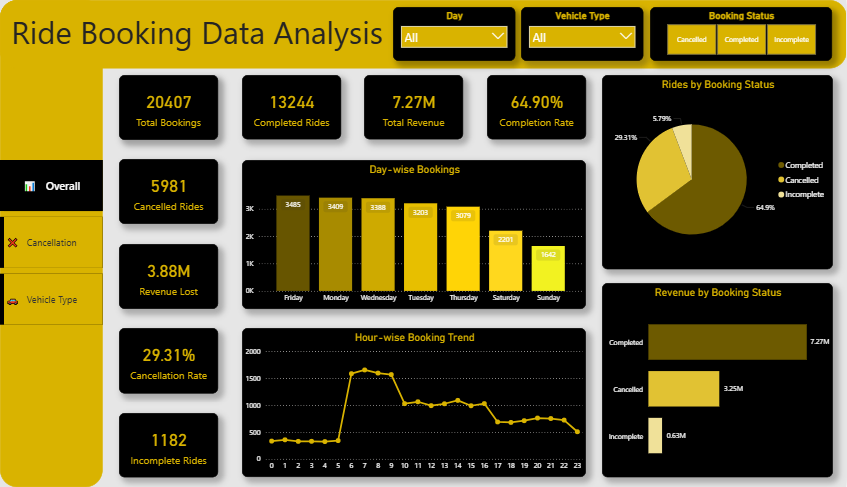

This screenshot's page, from the dashboard's own definition file:
{"tool":"powerbi","page":{"name":"📊   Overall","canvas":[1460,840],"ordinal":0},"visuals":[{"type":"shape","title":"Menu BG","box":[0,0,176.7,840],"z":0},{"type":"card","fields":{"Values":["rides.Total Bookings"]},"box":[205,130,171.1,112.1],"z":0,"group":"g1"},{"type":"group","id":"g1","title":"Group 1","box":[205,130,1230,695],"z":1000},{"type":"card","fields":{"Values":["rides.Completed Rides"]},"box":[416.6,130.4,171.1,111.2],"z":1000,"group":"g1"},{"type":"pageNavigator","title":"Menu Buttons","box":[0,275.4,177.2,284.2],"z":2000},{"type":"card","fields":{"Values":["rides.Cancelled Rides"]},"box":[205,275.5,171.1,112.1],"z":2000,"group":"g1"},{"type":"card","fields":{"Values":["rides.Total Revenue"]},"box":[627.7,130.4,171.1,111.2],"z":3000,"group":"g1"},{"type":"pageNavigator","title":"Menu Buttons","box":[7,275.4,170.2,284.2],"z":3000},{"type":"shape","title":"Menu BG","box":[0,0,1460,118.3],"z":4000},{"type":"card","fields":{"Values":["rides.Revenue Lost"]},"box":[205,420.9,171.1,112.1],"z":4000,"group":"g1"},{"type":"textbox","box":[0,12.3,677.2,93],"z":5000},{"type":"card","fields":{"Values":["rides.Cancellation Rate"]},"box":[205.5,566.4,171.1,112.8],"z":5000,"group":"g1"},{"type":"slicer","title":"Day","fields":{"Values":["rides.Day"]},"box":[677.2,12.3,210.5,93],"z":6000},{"type":"card","fields":{"Values":["rides.Incomplete Rides"]},"box":[205.5,712.6,171.1,111.2],"z":6000,"group":"g1"},{"type":"slicer","title":"Booking Status","fields":{"Values":["rides.Booking_Status"]},"box":[1121.1,12.3,314,93],"z":6002},{"type":"slicer","title":"Vehicle Type","fields":{"Values":["rides.Vehicle_Type"]},"box":[899.1,12.3,210.5,93],"z":6003},{"type":"lineChart","title":"Hour-wise Booking Trend","fields":{"Y":["rides.Total Bookings"],"Category":["rides.Hour"]},"box":[416.6,567,593.4,256.7],"z":7000,"group":"g1"},{"type":"columnChart","title":"Day-wise Bookings","fields":{"Category":["rides.Day"],"Y":["rides.Total Bookings"]},"box":[416.6,276,593.4,256.7],"z":8000,"group":"g1"},{"type":"pieChart","title":"Rides by Booking Status","fields":{"Category":["rides.Booking_Status"],"Y":["rides.Total Bookings"]},"box":[1037.2,130.4,398.3,335.2],"z":9000,"group":"g1"},{"type":"barChart","title":"Revenue by Booking Status","fields":{"Y":["Sum(rides.Booking_Value)"],"Category":["rides.Booking_Status"]},"box":[1037.2,488.5,398.3,335.2],"z":10000,"group":"g1"},{"type":"card","fields":{"Values":["rides.Completion Rate"]},"box":[838.9,130.4,171.1,111.2],"z":11000,"group":"g1"}]}

Visuals, with their boxes in screenshot pixels (x1, y1, x2, y2), scaled from the page's 1460x840 canvas onto the 847x487 screenshot:
"Menu BG" shape: (0, 0, 103, 486)
card - rides.Total Bookings: (119, 75, 218, 140)
"Group 1" group: (119, 75, 832, 478)
card - rides.Completed Rides: (242, 76, 341, 140)
"Menu Buttons" pageNavigator: (0, 160, 103, 324)
card - rides.Cancelled Rides: (119, 160, 218, 225)
card - rides.Total Revenue: (364, 76, 463, 140)
"Menu Buttons" pageNavigator: (4, 160, 103, 324)
"Menu BG" shape: (0, 0, 846, 69)
card - rides.Revenue Lost: (119, 244, 218, 309)
textbox: (0, 7, 393, 61)
card - rides.Cancellation Rate: (119, 328, 218, 394)
"Day" slicer: (393, 7, 515, 61)
card - rides.Incomplete Rides: (119, 413, 218, 478)
"Booking Status" slicer: (650, 7, 833, 61)
"Vehicle Type" slicer: (522, 7, 644, 61)
"Hour-wise Booking Trend" lineChart: (242, 329, 586, 478)
"Day-wise Bookings" columnChart: (242, 160, 586, 309)
"Rides by Booking Status" pieChart: (602, 76, 833, 270)
"Revenue by Booking Status" barChart: (602, 283, 833, 478)
card - rides.Completion Rate: (487, 76, 586, 140)
